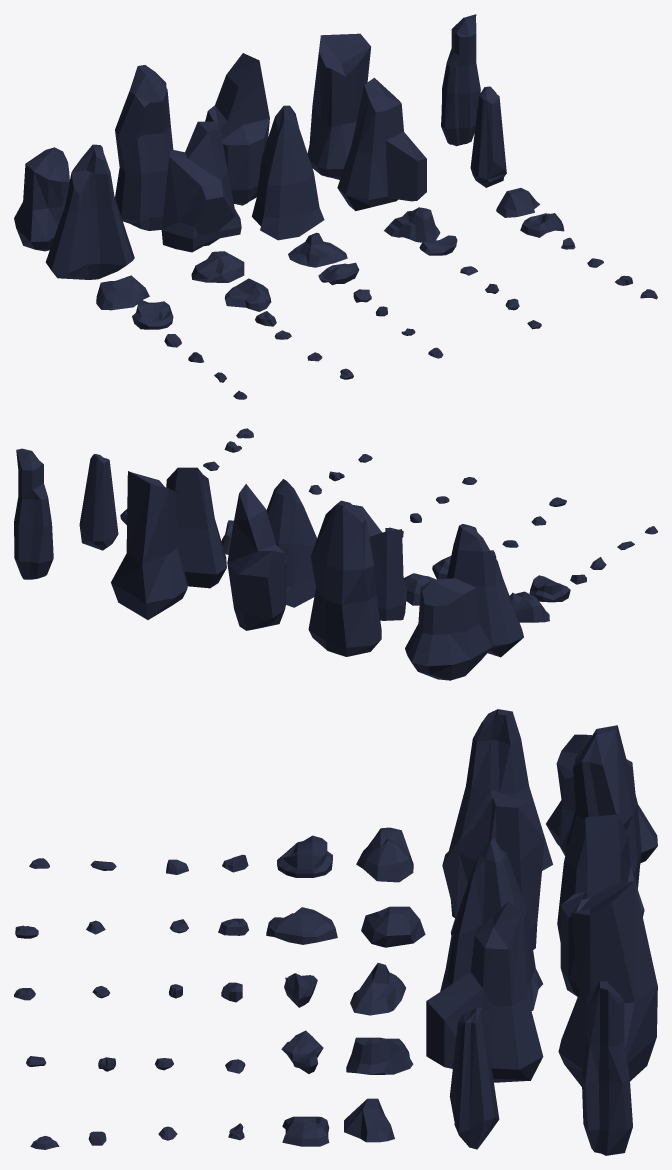
File: AllStones.glb
3 views of the same model, one above another, from view 1: azimuth 30°, elevation 25°; view 2: azimuth 150°, elevation 25°; view 3: azimuth 270°, elevation 25° (orthographic). The views are drawn at different scales.
Parts seen in each view (by area): view 1: Stone_big_010, Stone_big_009, Stone_big_002, Stone_big_004, Stone_big_008, Stone_big_003, Stone_big_007, Stone_big_001, Stone_big_005, Stone_big_006, Stone_mid_009, Stone_mid_001 (+8 smaller); view 2: Stone_big_009, Stone_big_008, Stone_big_001, Stone_big_007, Stone_big_002, Stone_big_010, Stone_big_005, Stone_big_003, Stone_big_004, Stone_big_006, Stone_mid_009, Stone_mid_003 (+1 smaller); view 3: Stone_big_010, Stone_big_008, Stone_big_009, Stone_big_005, Stone_big_004, Stone_big_003, Stone_big_002, Stone_big_006, Stone_big_007, Stone_big_001, Stone_mid_009, Stone_mid_001 (+8 smaller).
Part boxes in pixels (x1,y1,x2,y2): Stone_big_010: [337, 77, 426, 210]; Stone_big_009: [115, 65, 173, 230]; Stone_big_002: [45, 144, 134, 279]; Stone_big_004: [161, 121, 241, 252]; Stone_big_008: [307, 33, 370, 179]; Stone_big_003: [252, 105, 324, 240]; Stone_big_007: [205, 53, 269, 205]; Stone_big_001: [14, 147, 69, 251]; Stone_big_005: [441, 14, 480, 146]; Stone_big_006: [470, 86, 506, 187]; Stone_mid_009: [96, 275, 149, 310]; Stone_mid_001: [384, 207, 440, 242]; Stone_big_009: [308, 500, 381, 656]; Stone_big_008: [111, 471, 187, 619]; Stone_big_001: [405, 578, 492, 680]; Stone_big_007: [227, 484, 285, 630]; Stone_big_002: [446, 524, 523, 657]; Stone_big_010: [166, 467, 226, 588]; Stone_big_005: [14, 448, 53, 579]; Stone_big_003: [266, 479, 316, 607]; Stone_big_004: [352, 504, 407, 620]; Stone_big_006: [79, 454, 118, 550]; Stone_mid_009: [509, 591, 549, 622]; Stone_mid_003: [529, 575, 570, 602]; Stone_big_010: [426, 901, 543, 1082]; Stone_big_008: [558, 881, 657, 1086]; Stone_big_009: [557, 725, 641, 941]; Stone_big_005: [581, 981, 632, 1155]; Stone_big_004: [442, 790, 544, 949]; Stone_big_003: [440, 838, 542, 1010]; Stone_big_002: [449, 709, 552, 870]; Stone_big_006: [449, 1007, 499, 1149]; Stone_big_007: [560, 814, 644, 996]; Stone_big_001: [546, 734, 657, 863]; Stone_mid_009: [356, 827, 413, 882]; Stone_mid_001: [346, 1037, 413, 1074].
Bounding box in the file's own units: 38.51 × 12.24 × 32.91.
Materials: 1 (1 with a texture image).
